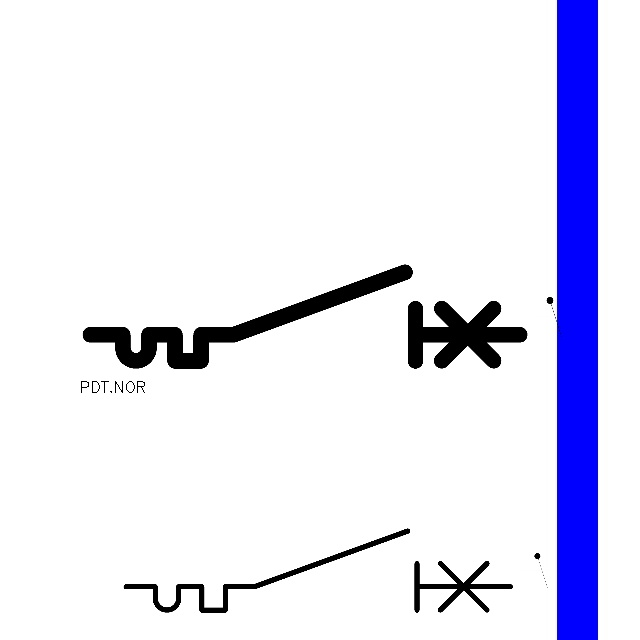interruptor_termomagnetico: (79, 261, 531, 372), (116, 521, 520, 620)
